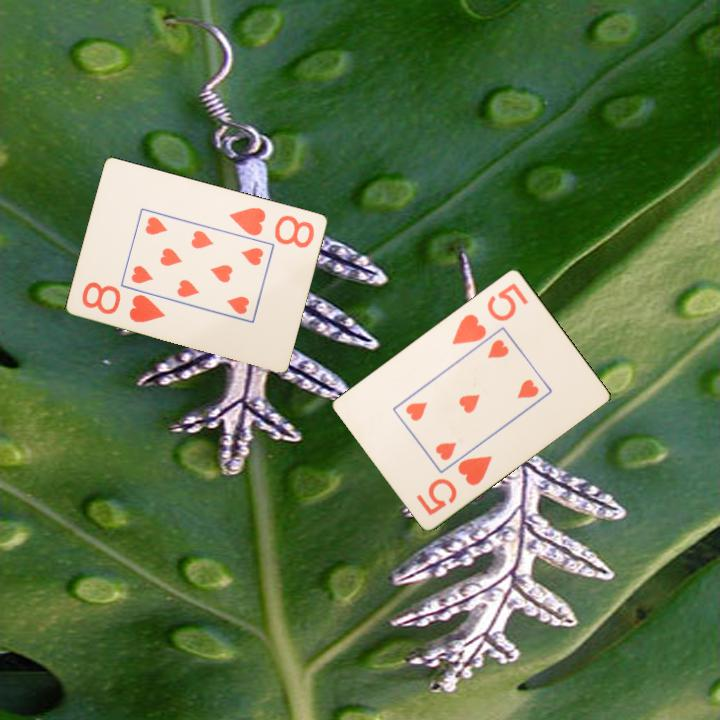5h: (448, 279, 532, 347), (412, 451, 495, 518)
8h: (226, 203, 318, 251), (79, 278, 168, 326)
